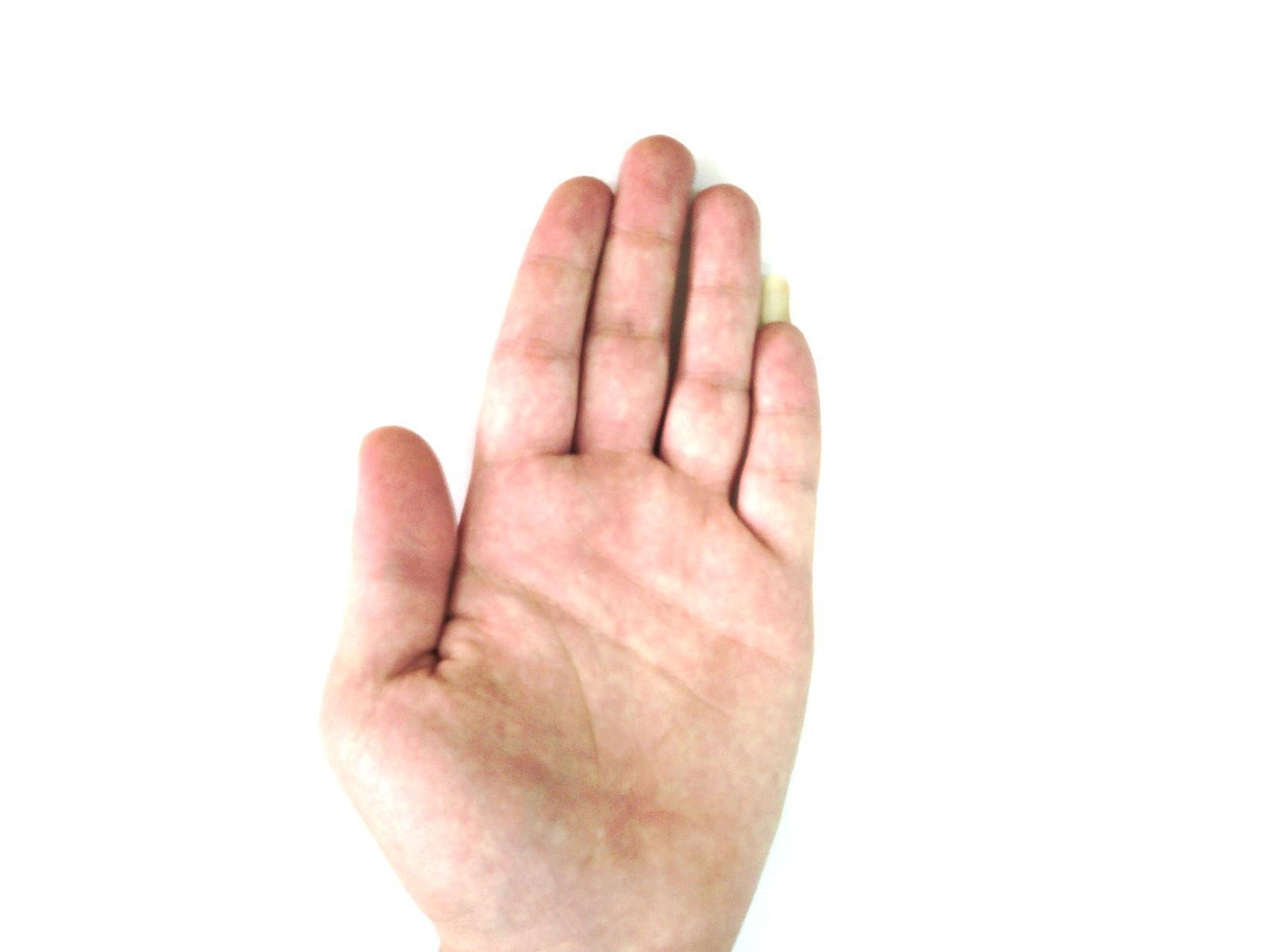open_palm: (318, 133, 826, 951)
